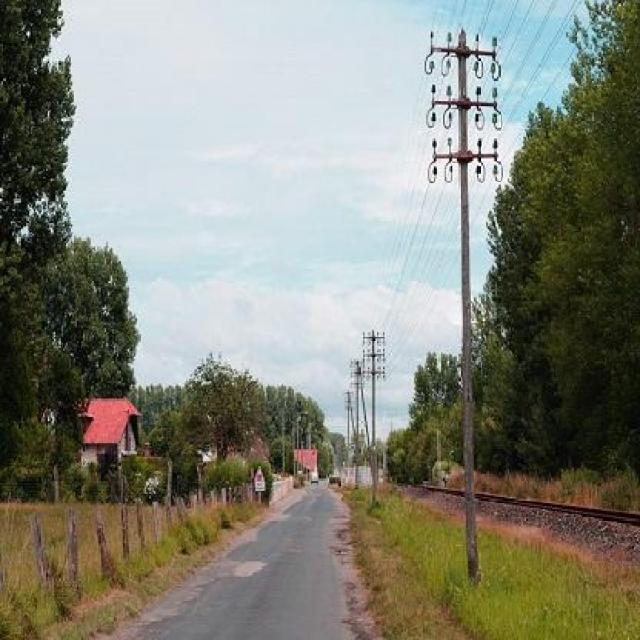pole: (414, 28, 511, 554)
